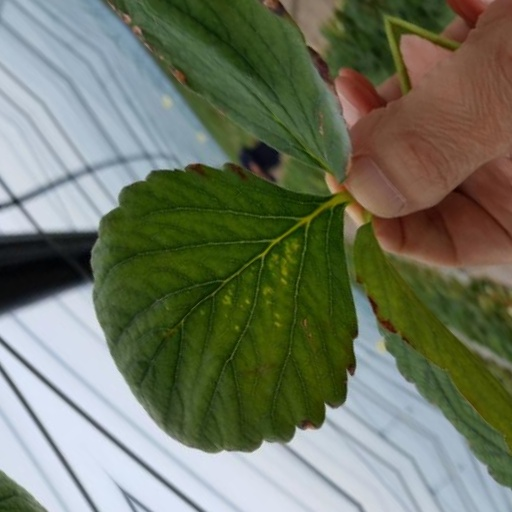Angular Leafspot: (151, 226, 313, 356)
